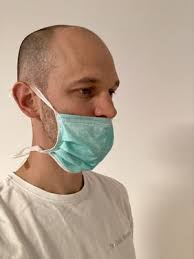mask_weared_incorrect: (54, 53, 121, 179)
